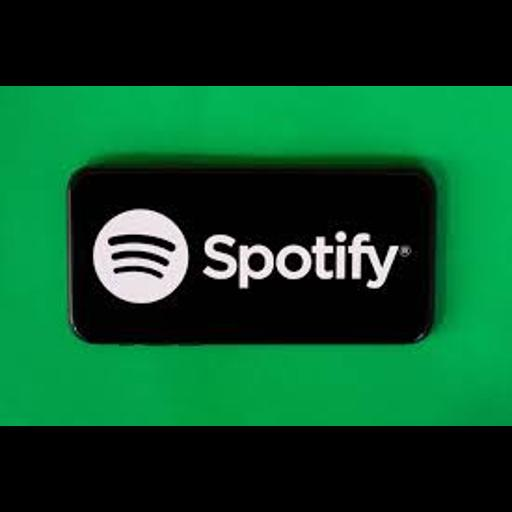Spotify: (0, 86, 512, 426)
